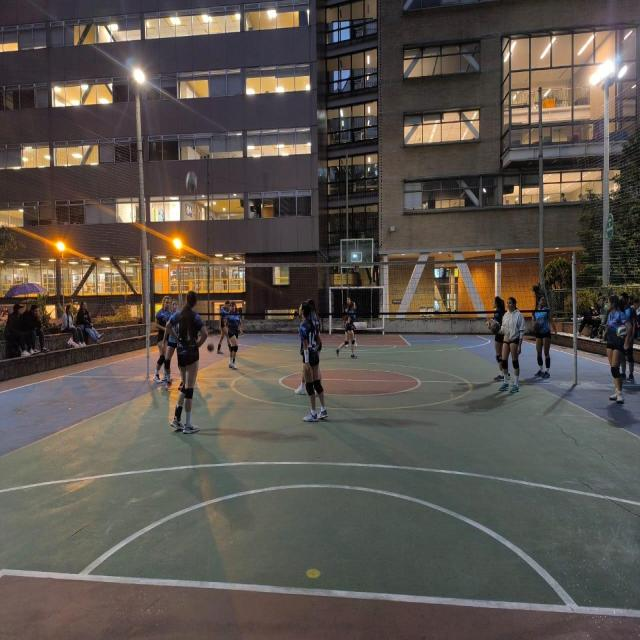volleyball: (184, 170, 198, 192), (490, 321, 500, 333)
